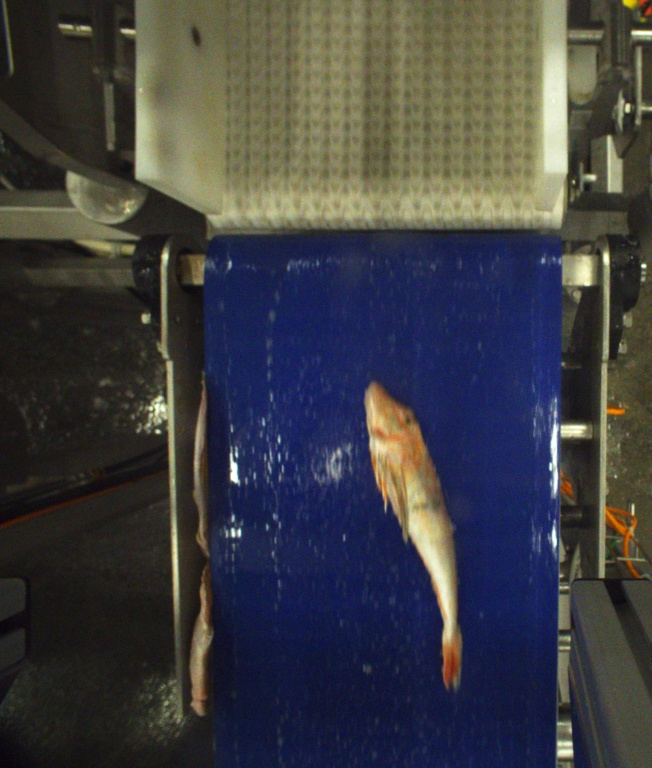GUU: (363, 380, 468, 693)
